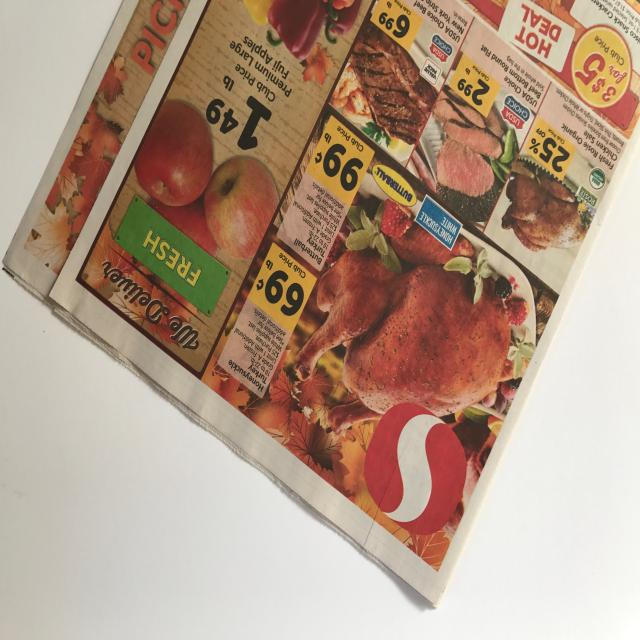paper: (2, 0, 638, 624)
